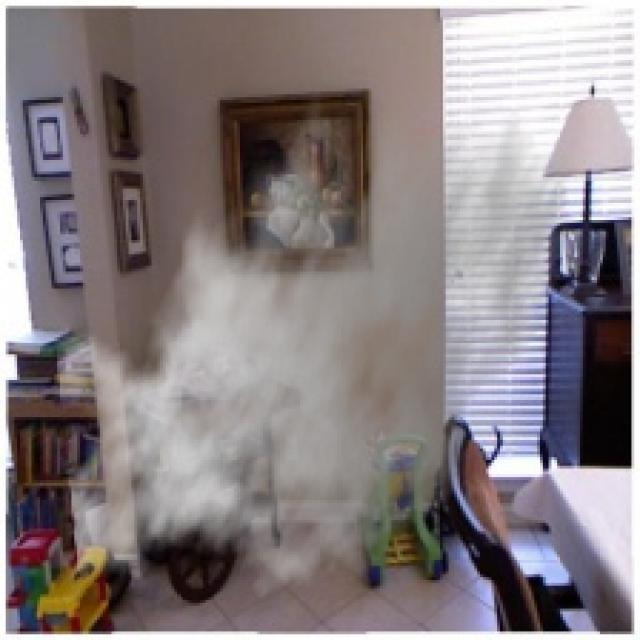Smoke: (54, 60, 574, 617)
